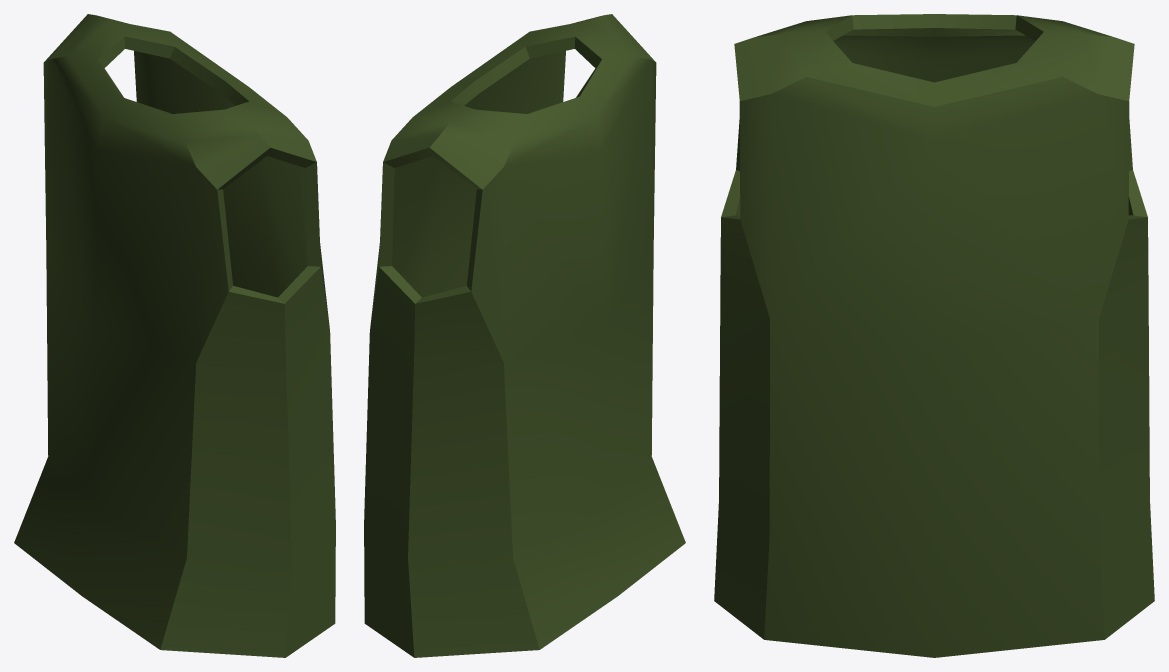
File: zbroja.fbx
The picture shows the model from 3 angles, left to right: view 1: azimuth 30°, elevation 25°; view 2: azimuth 150°, elevation 25°; view 3: azimuth 270°, elevation 25°; orthographic projection. The views are drawn at different scales.
Visible parts, largest first — view 1: zbroja; view 2: zbroja; view 3: zbroja.
Boxes of the visible parts, x1,y1,x2,y2 form: zbroja: (14, 14, 335, 657); zbroja: (364, 14, 685, 657); zbroja: (714, 14, 1154, 657).
Size of the model in its own units: 18.59 by 42.57 by 30.08.
